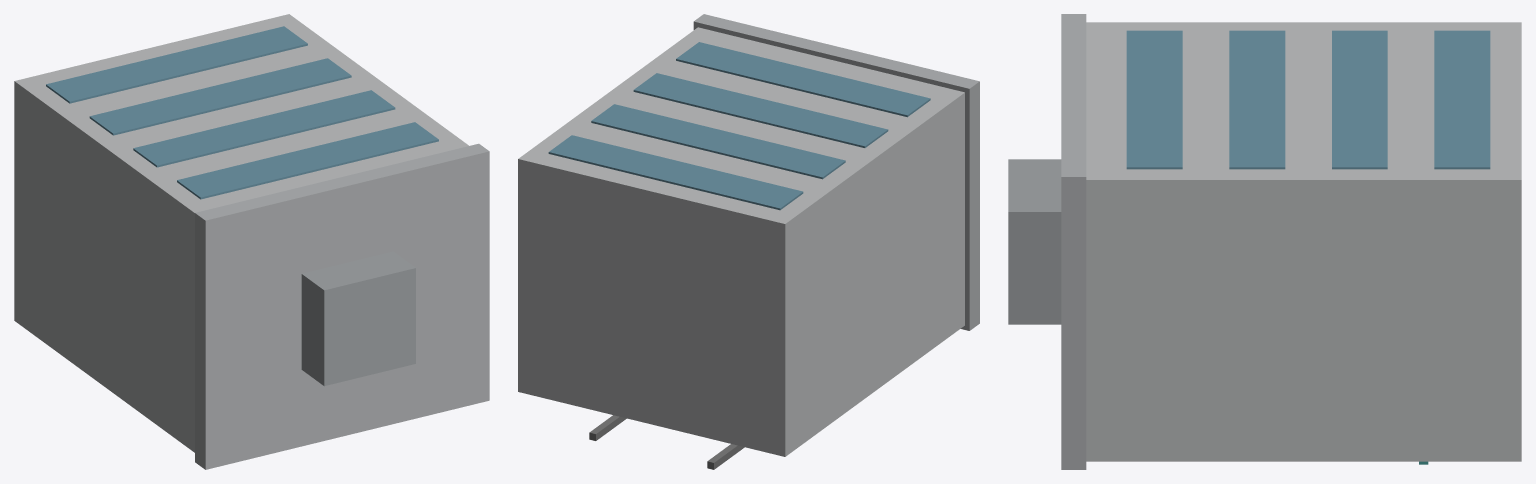
Rendered from building_multistorey.glb.
3 views of the same model, side by side, from view 1: azimuth 30°, elevation 25°; view 2: azimuth 150°, elevation 25°; view 3: azimuth 270°, elevation 25° (orthographic). The views are drawn at different scales.
Size of the model in its own units: 12.4 by 11.7 by 16.5.
